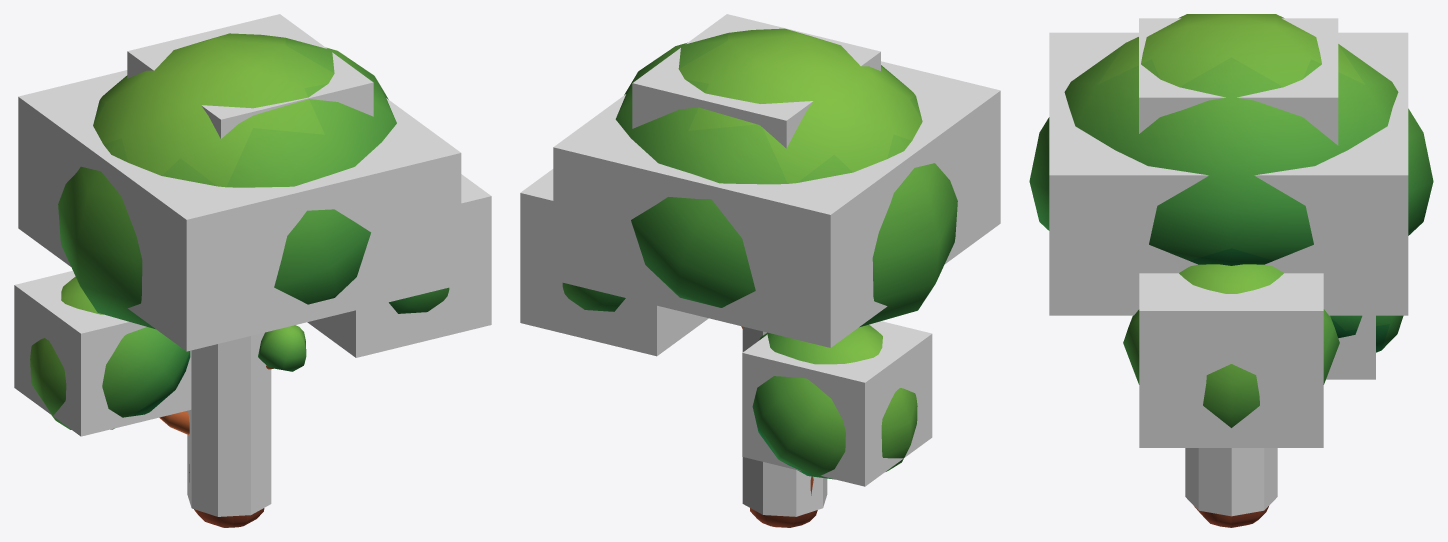
File: tree_1_a.glb
The picture shows the model from 3 angles, left to right: view 1: azimuth 30°, elevation 25°; view 2: azimuth 150°, elevation 25°; view 3: azimuth 270°, elevation 25°; orthographic projection. The views are drawn at different scales.
Parts seen in each view (by area): view 1: Tree_1_C_Color1, COL_BOX_01, COL_CYL_00, COL_BOX_02, COL_BOX_00, COL_BOX_03; view 2: Tree_1_C_Color1, COL_BOX_01, COL_BOX_02, COL_BOX_00, COL_BOX_03, COL_CYL_00; view 3: Tree_1_C_Color1, COL_BOX_01, COL_BOX_00, COL_BOX_03, COL_CYL_00, COL_BOX_02.
Part boxes in pixels (x1,y1,x2,y2): Tree_1_C_Color1: (30, 33, 449, 527); COL_BOX_01: (18, 70, 461, 351); COL_CYL_00: (187, 332, 271, 516); COL_BOX_02: (14, 270, 191, 436); COL_BOX_00: (307, 174, 491, 357); COL_BOX_03: (127, 14, 373, 138); Tree_1_C_Color1: (562, 28, 957, 527); COL_BOX_01: (553, 61, 1000, 347); COL_BOX_02: (742, 321, 932, 486); COL_BOX_00: (520, 169, 708, 356); COL_BOX_03: (632, 14, 880, 148); COL_CYL_00: (742, 326, 827, 516); Tree_1_C_Color1: (1029, 14, 1433, 527); COL_BOX_01: (1049, 32, 1408, 315); COL_BOX_00: (1139, 273, 1323, 447); COL_BOX_03: (1139, 18, 1338, 145); COL_CYL_00: (1185, 448, 1277, 516); COL_BOX_02: (1326, 315, 1375, 379).
Bounding box in the file's own units: 3.54 × 4.13 × 3.04.
Materials: 1 (1 with a texture image).
